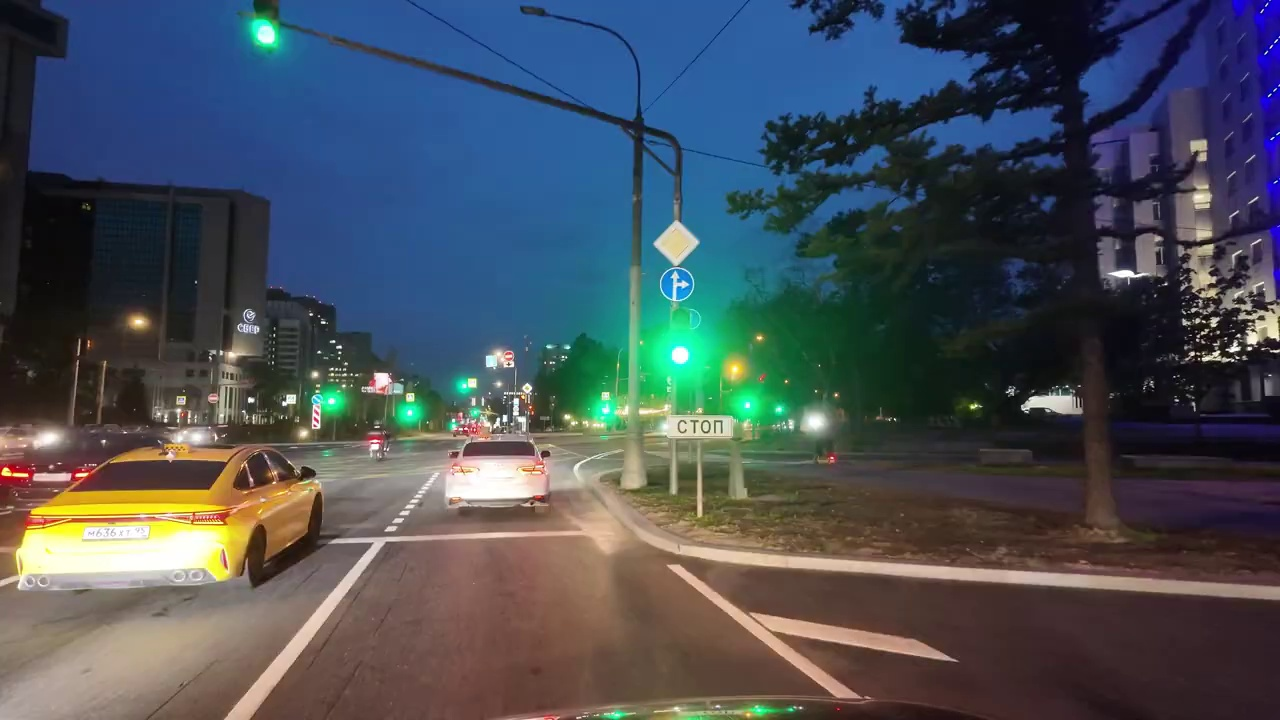acesa: (656, 224, 693, 262), (126, 310, 153, 335), (489, 348, 514, 370)
apagada: (513, 6, 558, 29)
